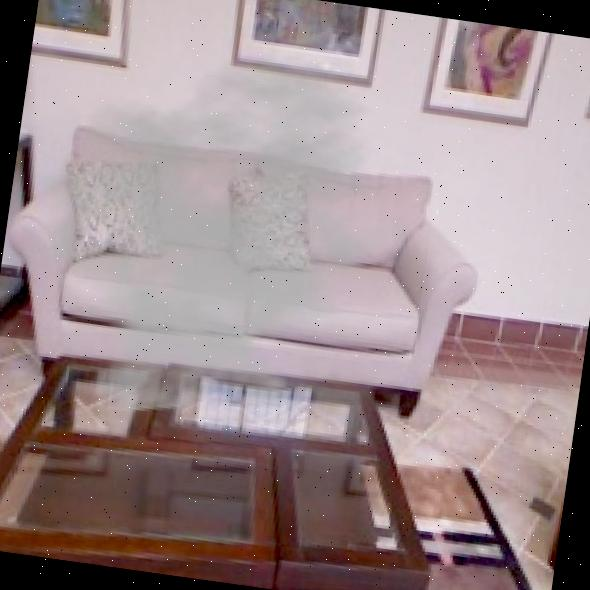smoke: (0, 18, 437, 453)
